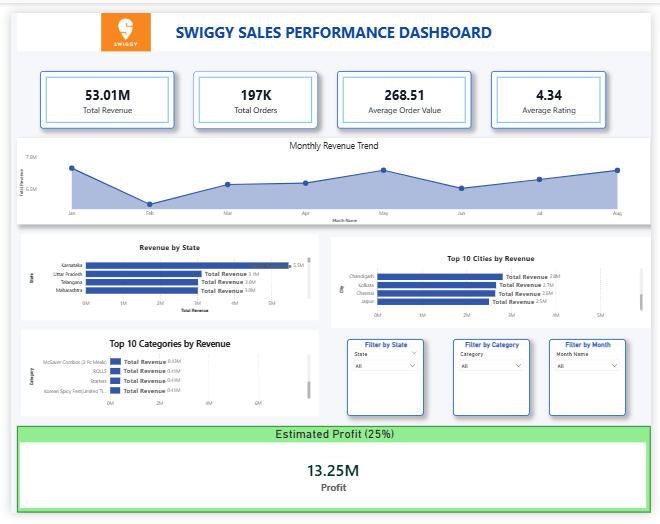

The dashboard page shown, as its layout file describes it:
{"tool":"powerbi","page":{"name":"Executive Dashboard","canvas":[1600,1250],"ordinal":0},"visuals":[{"type":"cardVisual","fields":{"Data":["swiggy_data.Total Orders"]},"box":[456,144,312,144],"z":0},{"type":"lineChart","title":"Monthly Revenue Trend","fields":{"Category":["swiggy_data.Month Name"],"Y":["swiggy_data.Total Revenue"]},"box":[16,312,1584,216],"z":1000},{"type":"clusteredBarChart","title":"Revenue by State","fields":{"Category":["swiggy_data.State"],"Y":["swiggy_data.Total Revenue"]},"box":[24,552,744,216],"z":2000},{"type":"clusteredBarChart","title":"Top 10 Cities by Revenue","fields":{"Category":["swiggy_data.City"],"Y":["swiggy_data.Total Revenue"]},"box":[800,560,800,208],"z":3000},{"type":"slicer","title":"Filter by State","fields":{"Values":["swiggy_data.State"]},"box":[840,816,192,192],"z":4000},{"type":"slicer","title":"Filter by Category","fields":{"Values":["swiggy_data.Category"]},"box":[1104,816,192,192],"z":5000},{"type":"slicer","title":"Filter by Month","fields":{"Values":["swiggy_data.Month Name"]},"box":[1344,816,192,192],"z":6000},{"type":"textbox","box":[16,0,1584,96],"z":7000},{"type":"clusteredBarChart","title":"Top 10 Categories by Revenue","fields":{"Category":["swiggy_data.Category"],"Y":["swiggy_data.Total Revenue"]},"box":[24,792,744,216],"z":8000},{"type":"cardVisual","fields":{"Data":["swiggy_data.Total Revenue"]},"box":[72,144,336,144],"z":9000},{"type":"image","box":[168,0,240,96],"z":10000},{"type":"cardVisual","title":"Estimated Profit (25%)","fields":{"Data":["swiggy_data.Profit"]},"box":[16,1032,1584,216],"z":12000},{"type":"cardVisual","fields":{"Data":["swiggy_data.Average Order Value"]},"box":[816,144,336,144],"z":13000},{"type":"cardVisual","fields":{"Data":["swiggy_data.Average Rating"]},"box":[1200,144,288,144],"z":14000},{"type":"clusteredBarChart","title":"Top 10 Cities by Revenue","fields":{"Category":["swiggy_data.City"],"Y":["swiggy_data.Total Revenue"]},"box":[800,570,800,208],"z":14001},{"type":"clusteredBarChart","title":"Top 10 Cities by Revenue","fields":{"Category":["swiggy_data.City"],"Y":["swiggy_data.Total Revenue"]},"box":[800,580,800,208],"z":14003}]}

Visuals, with their boxes in screenshot pixels (x1, y1, x2, y2), scaled from the page's 1600x1250 canvas onto the 660x524 screenshot:
cardVisual - swiggy_data.Total Orders: {"x1": 188, "y1": 60, "x2": 317, "y2": 121}
"Monthly Revenue Trend" lineChart: {"x1": 7, "y1": 131, "x2": 659, "y2": 221}
"Revenue by State" clusteredBarChart: {"x1": 10, "y1": 231, "x2": 317, "y2": 322}
"Top 10 Cities by Revenue" clusteredBarChart: {"x1": 330, "y1": 235, "x2": 659, "y2": 322}
"Filter by State" slicer: {"x1": 346, "y1": 342, "x2": 426, "y2": 423}
"Filter by Category" slicer: {"x1": 455, "y1": 342, "x2": 535, "y2": 423}
"Filter by Month" slicer: {"x1": 554, "y1": 342, "x2": 634, "y2": 423}
textbox: {"x1": 7, "y1": 0, "x2": 659, "y2": 40}
"Top 10 Categories by Revenue" clusteredBarChart: {"x1": 10, "y1": 332, "x2": 317, "y2": 423}
cardVisual - swiggy_data.Total Revenue: {"x1": 30, "y1": 60, "x2": 168, "y2": 121}
image: {"x1": 69, "y1": 0, "x2": 168, "y2": 40}
"Estimated Profit (25%)" cardVisual: {"x1": 7, "y1": 433, "x2": 659, "y2": 523}
cardVisual - swiggy_data.Average Order Value: {"x1": 337, "y1": 60, "x2": 475, "y2": 121}
cardVisual - swiggy_data.Average Rating: {"x1": 495, "y1": 60, "x2": 614, "y2": 121}
"Top 10 Cities by Revenue" clusteredBarChart: {"x1": 330, "y1": 239, "x2": 659, "y2": 326}
"Top 10 Cities by Revenue" clusteredBarChart: {"x1": 330, "y1": 243, "x2": 659, "y2": 330}
